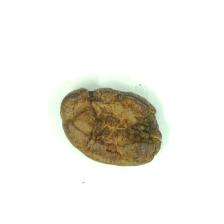NG: (60, 87, 161, 165)
